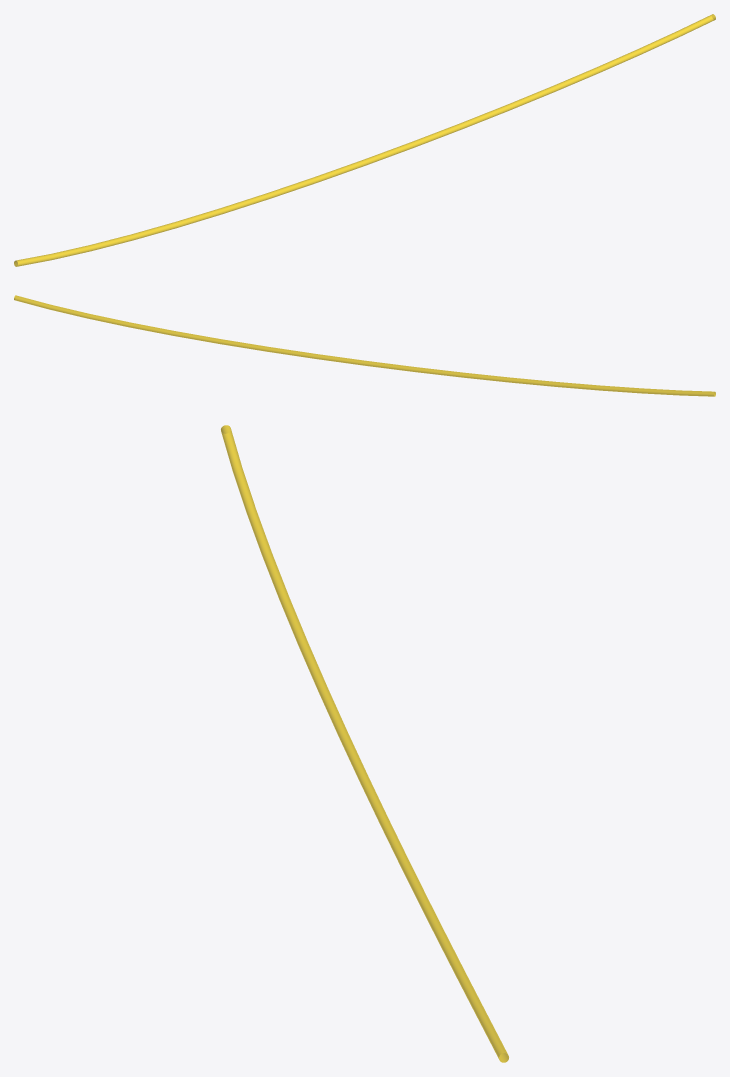
Rendered from Event_100608114_track_106.fbx.
The picture shows the model from 3 angles, top to bottom: view 1: azimuth 30°, elevation 25°; view 2: azimuth 150°, elevation 25°; view 3: azimuth 270°, elevation 25°; orthographic projection. The views are drawn at different scales.
Parts seen in each view (by area): view 1: Model; view 2: Model; view 3: Model.
Part boxes in pixels (box(x1,y1,x2,y2)): Model: box(14, 14, 715, 266); Model: box(14, 295, 715, 396); Model: box(221, 425, 508, 1062).
Bounding box in the file's own units: 5.66 × 0.2191 × 1.12.
